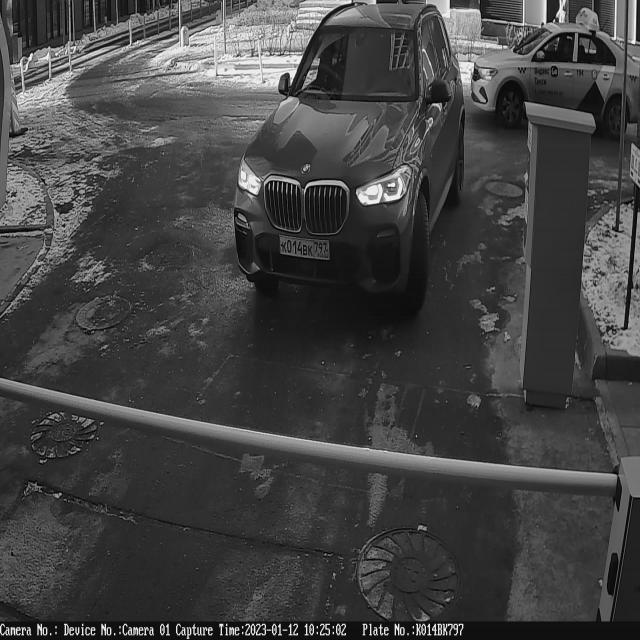car-plate-numbers: (276, 231, 336, 267)
